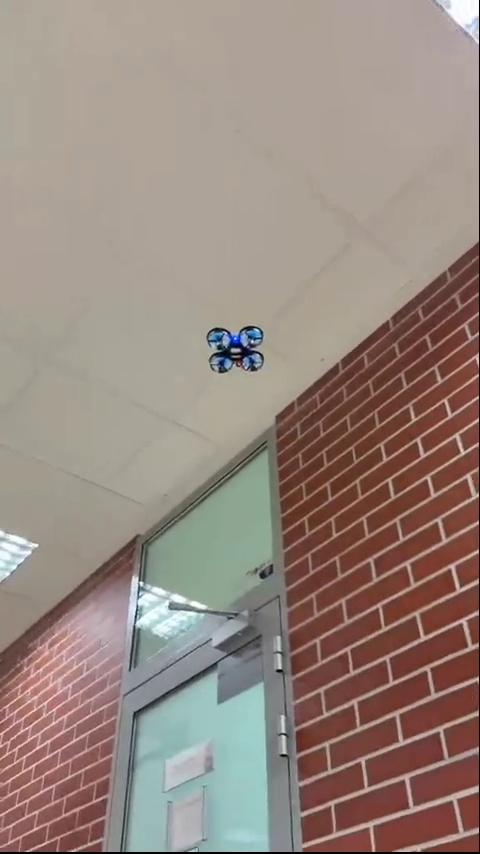drone: (206, 327, 270, 375)
